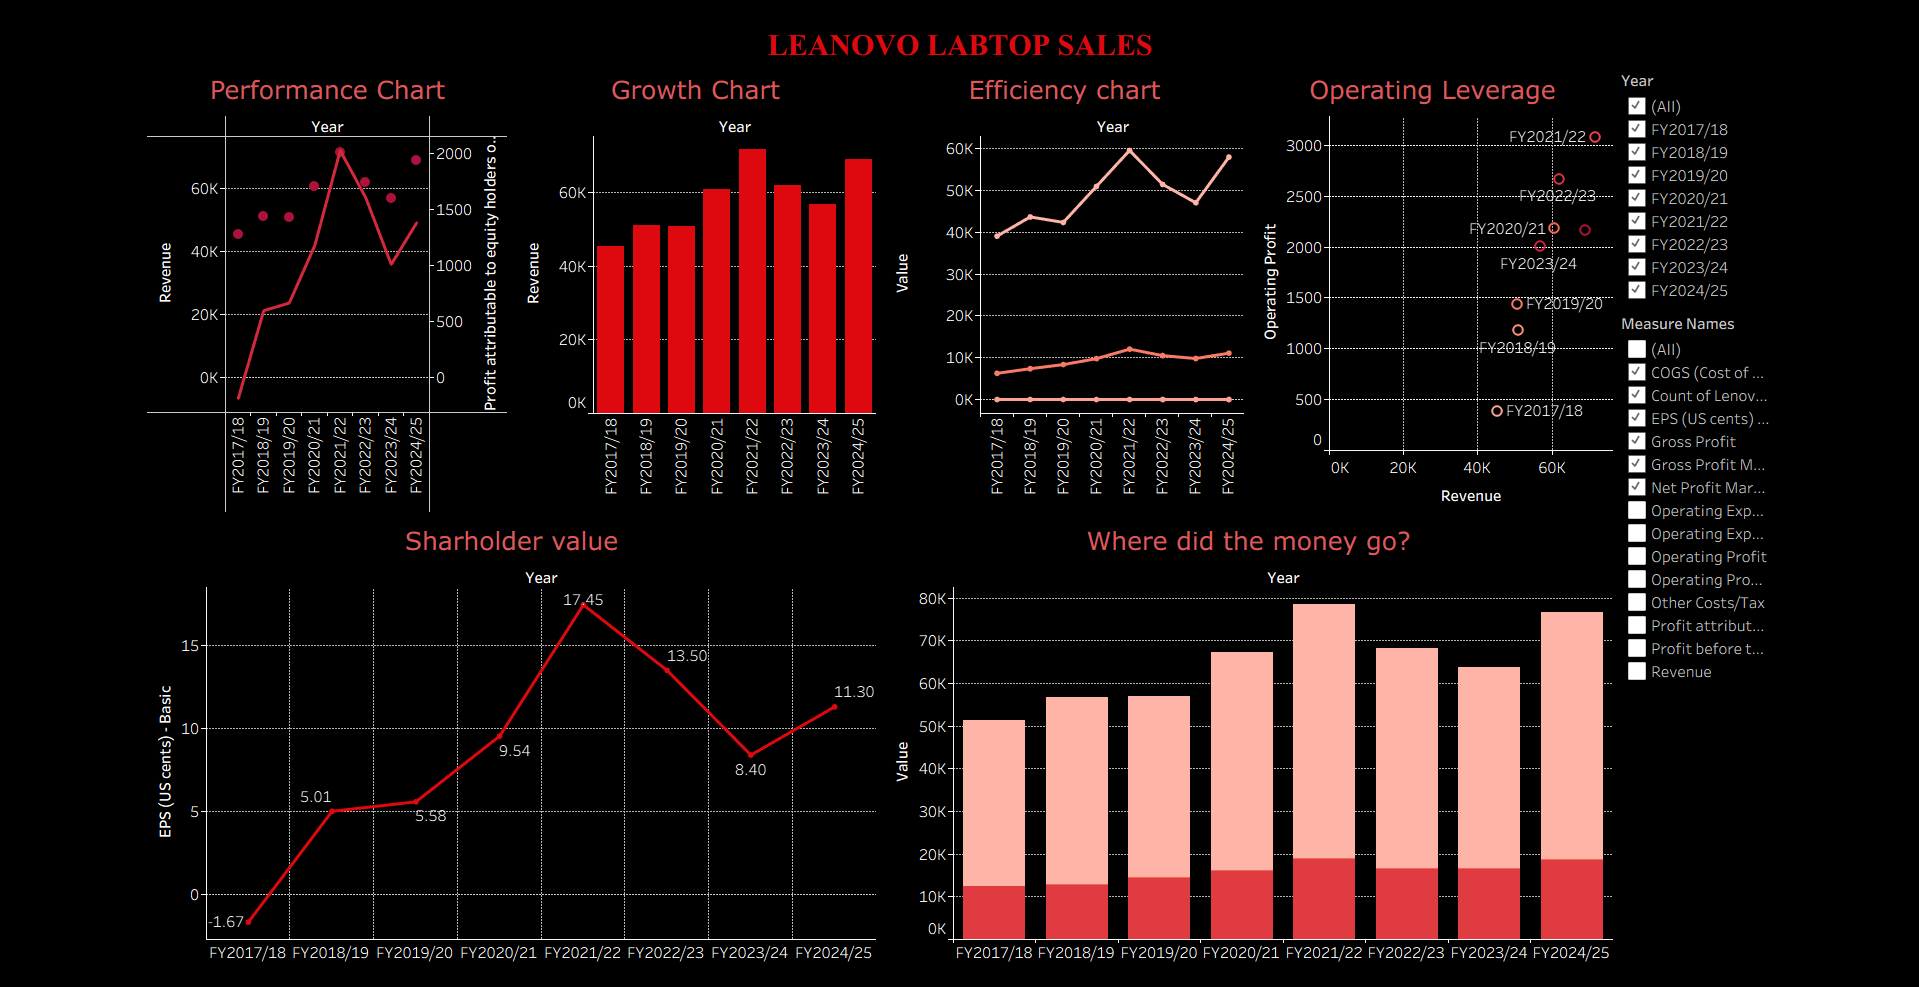

This screenshot's page, from the dashboard's own definition file:
{"tool":"tableau","page":{"name":"Dashboard 1","canvas":[1000,1000],"units":"permille","ordinal":0},"visuals":[{"type":"title","box":[4.9,10.2,990.2,53.5]},{"type":"worksheet","title":"Sheet 6","mark":"Automatic","rows":["Revenue","Profit attributable to equity holders of the Company"],"cols":["Year"],"box":[4.9,63.7,223.2,463.1]},{"type":"worksheet","title":"Sheet 1","mark":"Automatic","rows":["Revenue"],"cols":["Year"],"box":[228.1,63.7,223.2,463.1]},{"type":"worksheet","title":"Sheet 2","mark":"Line","cols":["Year"],"box":[451.2,63.7,223.2,463.1]},{"type":"worksheet","title":"Sheet 4","mark":"Automatic","rows":["Operating Profit"],"cols":["Revenue"],"box":[674.4,63.7,223.2,463.1]},{"type":"filter","title":"Sheet 1","param":"[federated.1iw8x420tjawi71040lhn1i4tzy6].[none:Year:nk]","box":[897.6,63.7,97.5,309.6]},{"type":"filter","title":"Sheet 2","param":"[federated.1iw8x420tjawi71040lhn1i4tzy6].[:Measure Names]","box":[897.6,373.2,97.5,485.4]},{"type":"worksheet","title":"Sheet 5","mark":"Line","rows":["EPS (US cents) - Basic"],"cols":["Year"],"box":[4.9,526.7,446.4,463.1]},{"type":"worksheet","title":"Sheet 3","mark":"Automatic","cols":["Year"],"box":[451.2,526.7,446.4,463.1]}]}

Visuals, with their boxes on the dashboard's canvas, which has no fixed pixel size, in thousandths of its width and height (x1, y1, x2, y2). These are canvas units, not pixel positions in the 1919x987 screenshot, which may show the page scaled, cropped or inside an application window:
title: <bbox>5, 10, 995, 64</bbox>
"Sheet 6" worksheet: <bbox>5, 64, 228, 527</bbox>
"Sheet 1" worksheet: <bbox>228, 64, 451, 527</bbox>
"Sheet 2" worksheet (Line marks): <bbox>451, 64, 674, 527</bbox>
"Sheet 4" worksheet: <bbox>674, 64, 898, 527</bbox>
"Sheet 1" filter: <bbox>898, 64, 995, 373</bbox>
"Sheet 2" filter: <bbox>898, 373, 995, 859</bbox>
"Sheet 5" worksheet (Line marks): <bbox>5, 527, 451, 990</bbox>
"Sheet 3" worksheet: <bbox>451, 527, 898, 990</bbox>
